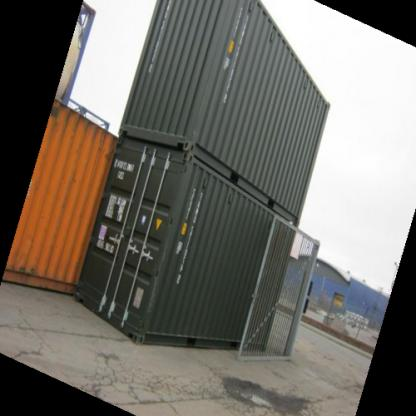Damage: (151, 244, 168, 309), (19, 230, 41, 276)
